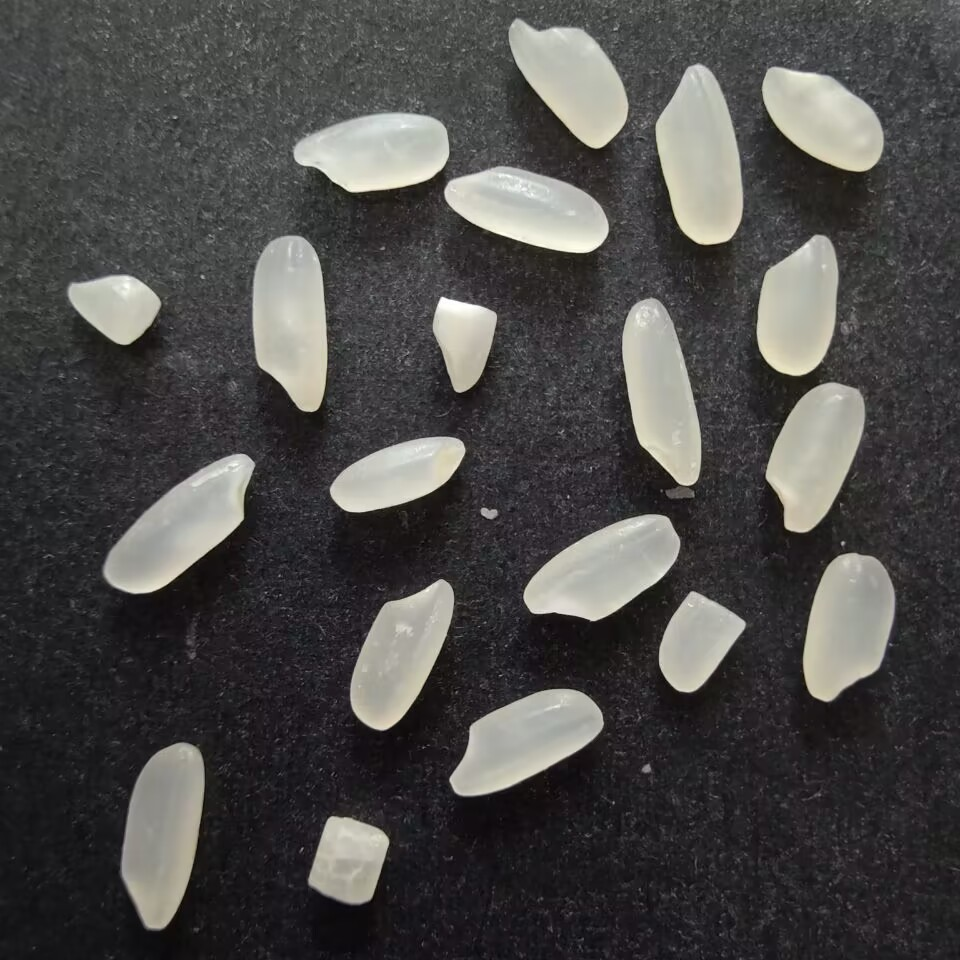broken: (656, 588, 749, 700), (304, 811, 392, 912), (427, 293, 501, 399), (61, 273, 164, 349)
rice: (97, 450, 256, 598), (442, 684, 612, 801), (519, 509, 685, 625), (344, 574, 460, 740), (613, 291, 707, 489), (646, 61, 745, 247), (115, 737, 208, 935), (502, 14, 632, 154), (761, 378, 871, 536), (794, 547, 901, 707), (438, 164, 612, 257), (246, 233, 331, 419), (760, 61, 889, 178), (291, 105, 453, 196), (752, 231, 841, 379), (325, 433, 469, 519)
